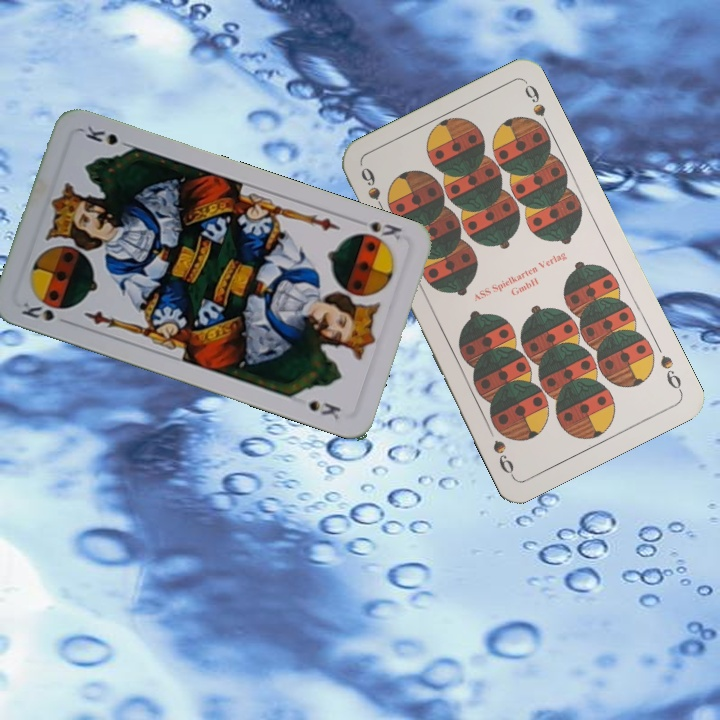S9: (356, 163, 390, 219), (656, 351, 685, 395)
SK: (17, 296, 73, 327), (365, 217, 405, 243)
